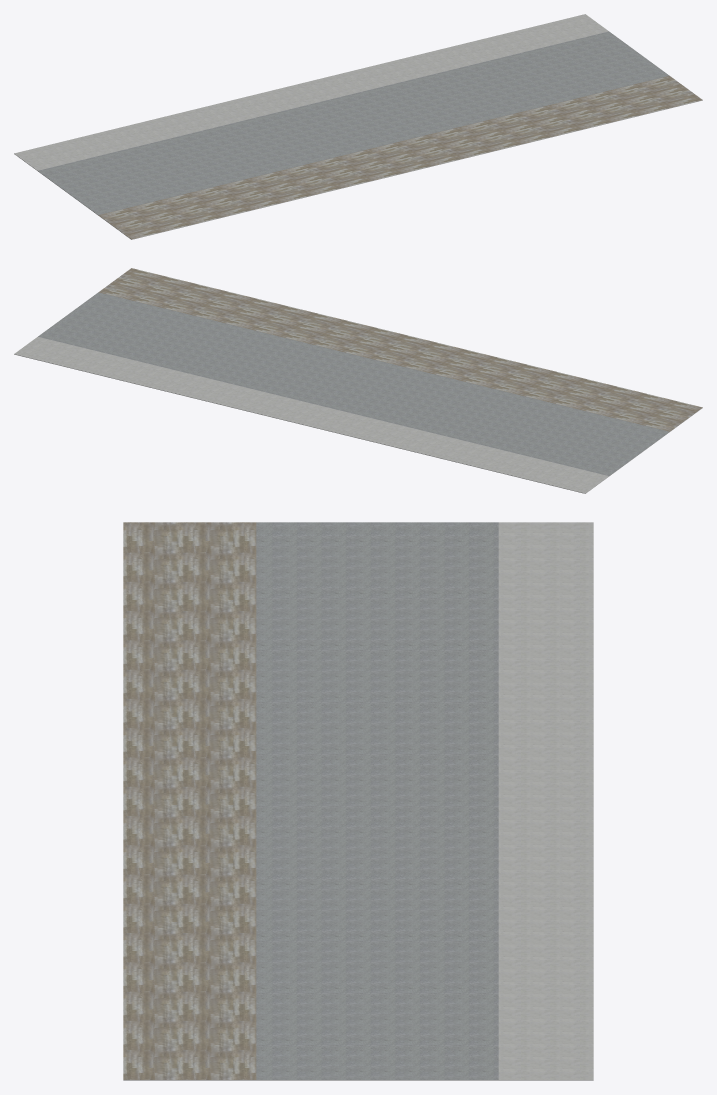
Rendered from room_floor.glb.
3 renders of one model, top to bottom at view 1: azimuth 30°, elevation 25°; view 2: azimuth 150°, elevation 25°; view 3: azimuth 270°, elevation 25°, orthographic. The views are drawn at different scales.
Parts seen in each view (by area): view 1: paint_matte_texture_1, paint_matte_texture_0, paint_matte_texture_2, paint_matte_0; view 2: paint_matte_texture_1, paint_matte_texture_0, paint_matte_texture_2, paint_matte_0; view 3: paint_matte_texture_1, paint_matte_texture_0, paint_matte_texture_2.
Part boxes in pixels (x1,y1,x2,y2): paint_matte_texture_1: [38, 31, 669, 214]; paint_matte_texture_0: [98, 76, 702, 239]; paint_matte_texture_2: [14, 14, 608, 170]; paint_matte_0: [14, 100, 702, 239]; paint_matte_texture_1: [38, 292, 669, 475]; paint_matte_texture_0: [99, 268, 702, 431]; paint_matte_texture_2: [14, 337, 608, 493]; paint_matte_0: [14, 354, 702, 493]; paint_matte_texture_1: [256, 522, 498, 1079]; paint_matte_texture_0: [123, 522, 256, 1079]; paint_matte_texture_2: [498, 522, 593, 1079].
Size of the model in its own units: 26.83 by 0.02 by 9.56.
Materials: 4 (3 with a texture image).
